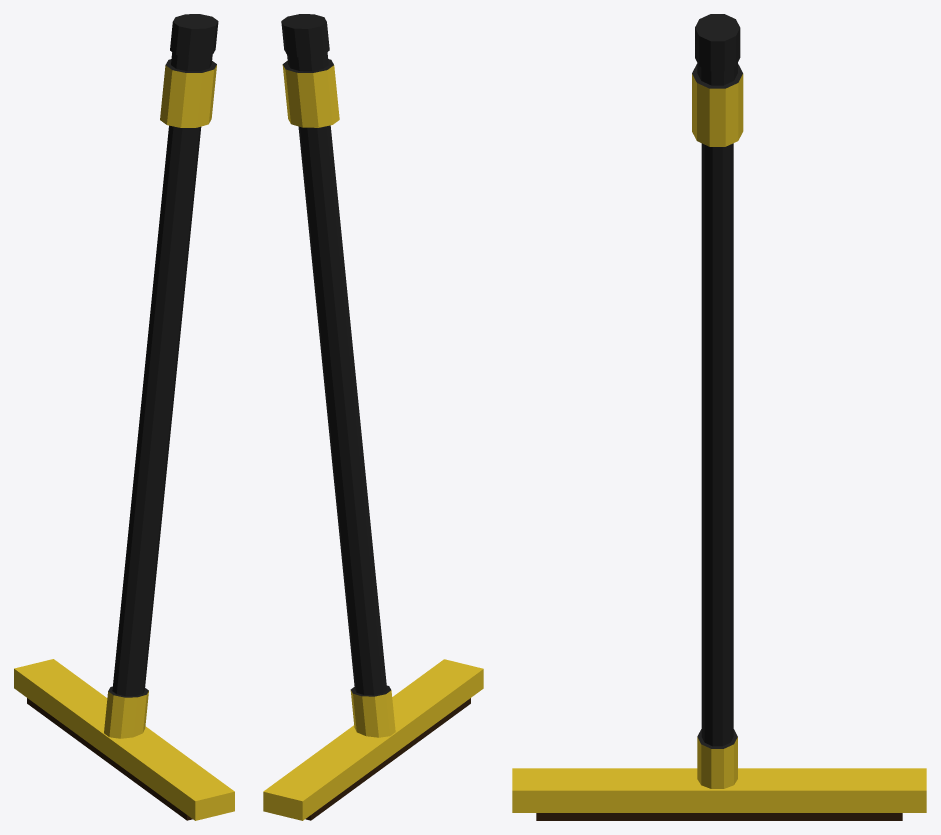
The model's file is broom.fbx.
3 renders of one model, left to right at view 1: azimuth 30°, elevation 25°; view 2: azimuth 150°, elevation 25°; view 3: azimuth 270°, elevation 25°, orthographic. The views are drawn at different scales.
Visible parts, largest first — view 1: Cylinder, Cube; view 2: Cylinder, Cube; view 3: Cylinder, Cube.
Part boxes in pixels (x1,y1,x2,y2): Cylinder: [104, 14, 218, 738]; Cube: [14, 659, 234, 820]; Cylinder: [281, 14, 395, 737]; Cube: [263, 659, 483, 820]; Cylinder: [692, 14, 743, 788]; Cube: [512, 768, 926, 820].
Bounding box in the file's own units: 104 × 653 × 297.
